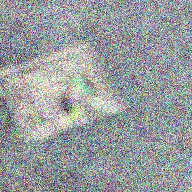러키펜정: (57, 115, 72, 127)
씨엠지세파클러캡슐: (69, 88, 82, 106)
에르도캡슐: (73, 77, 94, 96)
휴티렌정: (69, 105, 84, 119)
